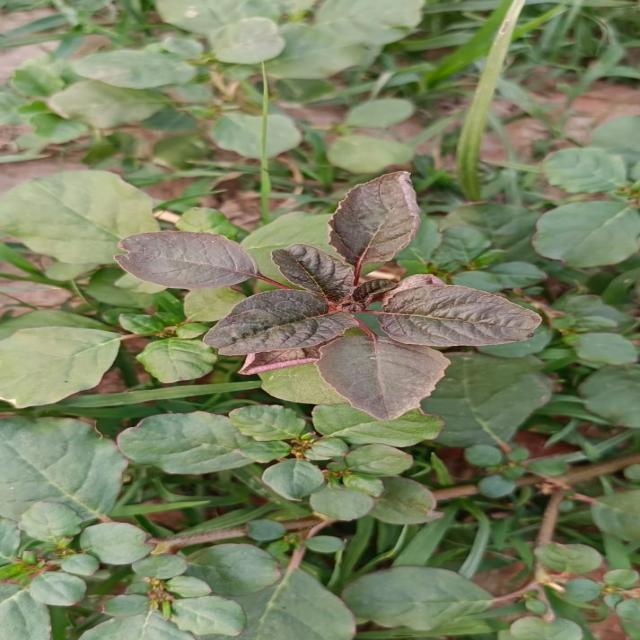plant: (205, 172, 542, 419), (116, 231, 255, 287)
